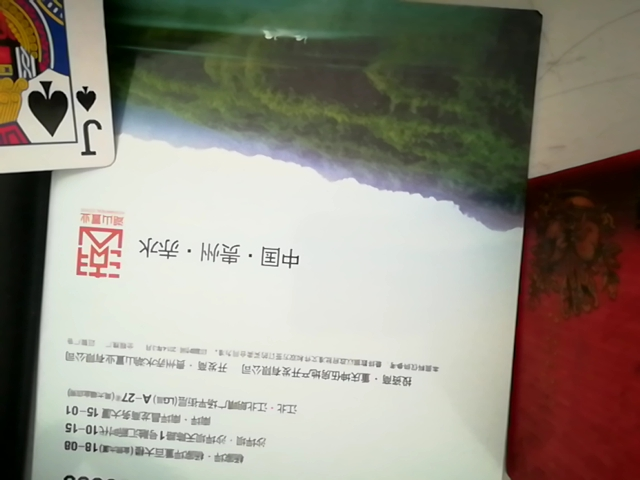ht j: (0, 0, 130, 207)
